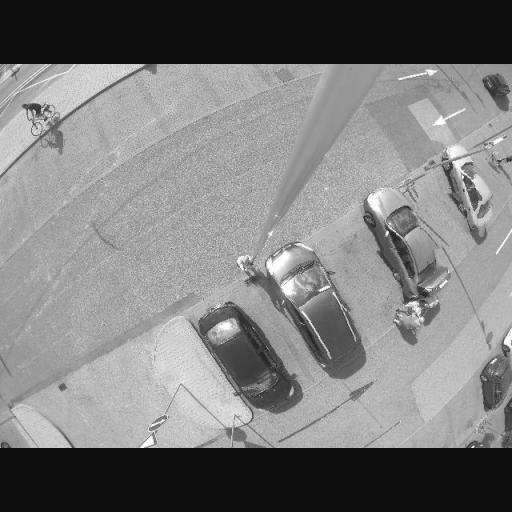busy: (254, 245, 362, 382), (350, 184, 442, 307), (195, 300, 293, 407), (419, 144, 495, 234), (476, 344, 510, 426), (480, 75, 512, 104)
free: (336, 250, 402, 310), (416, 194, 469, 250), (473, 160, 512, 200), (104, 105, 146, 140), (158, 78, 200, 112), (212, 68, 258, 98), (24, 164, 58, 198), (62, 140, 95, 172), (446, 408, 484, 434), (0, 205, 18, 235)
